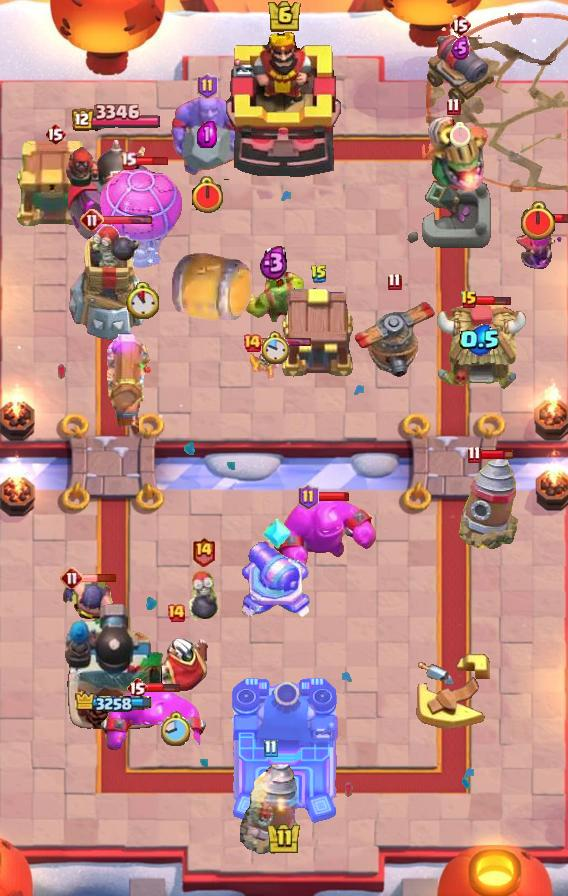archer-queen: (168, 95, 246, 177)
battle-healer: (106, 333, 152, 437)
bomb: (279, 285, 359, 379), (16, 140, 94, 228)
cannon-cart: (98, 163, 186, 271)
clone: (270, 493, 378, 575), (98, 688, 210, 754)
dark-prince: (345, 295, 443, 377)
dirt: (169, 251, 253, 325)
electro-spirit: (459, 324, 501, 356), (259, 244, 289, 281), (197, 121, 217, 148), (450, 36, 469, 60)
elixir: (519, 202, 557, 243), (190, 176, 225, 216), (125, 281, 159, 318), (161, 711, 191, 749), (259, 331, 288, 365), (449, 122, 470, 147)
emote: (101, 215, 153, 226), (260, 336, 312, 347), (478, 447, 513, 460), (135, 155, 170, 167), (476, 294, 512, 305), (145, 682, 181, 693), (316, 490, 350, 501), (82, 573, 117, 583), (548, 212, 568, 224)
evolution-symbol: (514, 221, 568, 276)
flying-machine: (244, 268, 304, 322)
guard: (426, 12, 568, 191)
heal-spirit: (250, 348, 280, 380)
ice-golem: (186, 569, 220, 625)
king-tower: (224, 29, 344, 181), (228, 676, 340, 826)
magic-archer: (458, 456, 518, 550), (240, 763, 300, 855)
monk: (61, 575, 115, 645)
night-witch: (415, 114, 491, 192)
pad_2: (263, 516, 291, 550)
prince: (433, 302, 527, 392)
royal-giant-evolution: (425, 33, 495, 107)
royal-recruit: (238, 541, 314, 625)
selected: (68, 103, 159, 132), (74, 691, 154, 715)
skeleton-king: (140, 627, 212, 701)
text: (192, 536, 217, 567), (80, 208, 104, 232), (60, 566, 84, 590), (197, 73, 218, 99), (297, 484, 318, 510), (449, 13, 471, 37), (44, 122, 66, 146), (126, 676, 148, 700), (242, 333, 262, 353), (166, 603, 186, 623), (310, 264, 328, 284), (460, 290, 478, 310), (119, 150, 137, 169), (447, 97, 462, 116), (467, 444, 481, 463), (263, 738, 277, 757), (387, 273, 401, 291)
tower-bar: (60, 132, 167, 256), (64, 601, 164, 731)
zappy: (68, 223, 152, 345)
